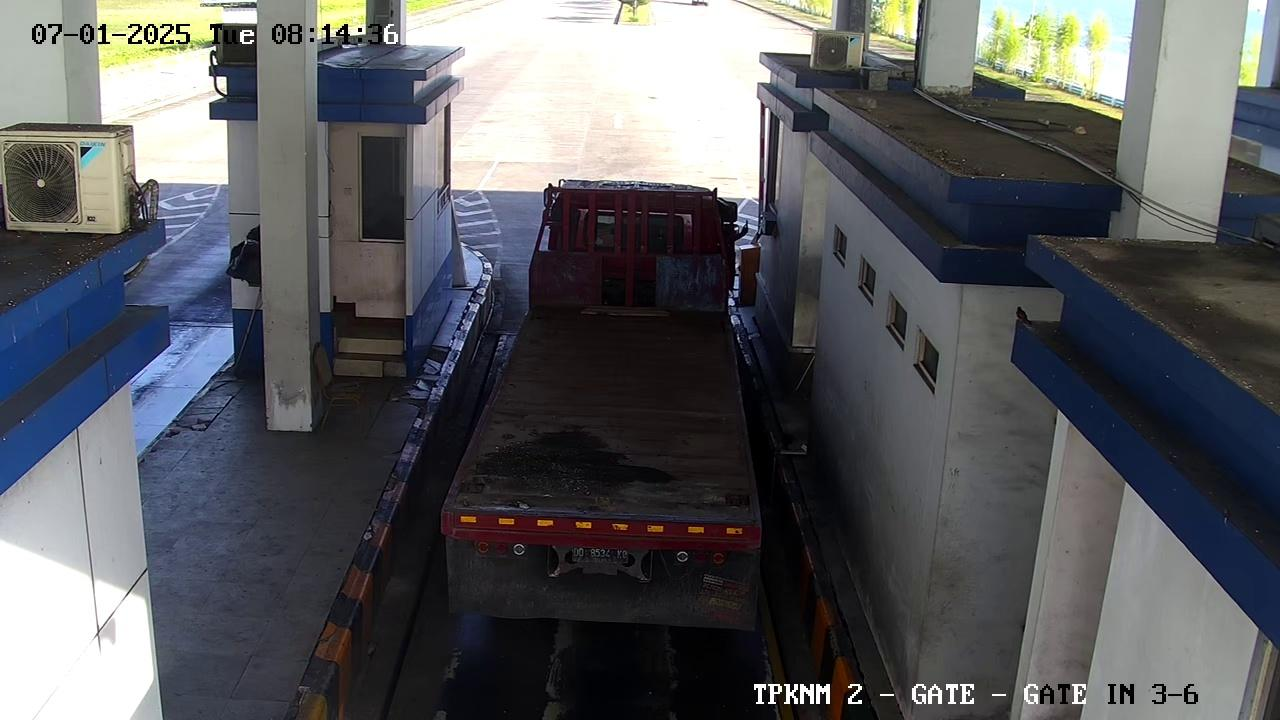plate_number: (564, 543, 640, 568)
